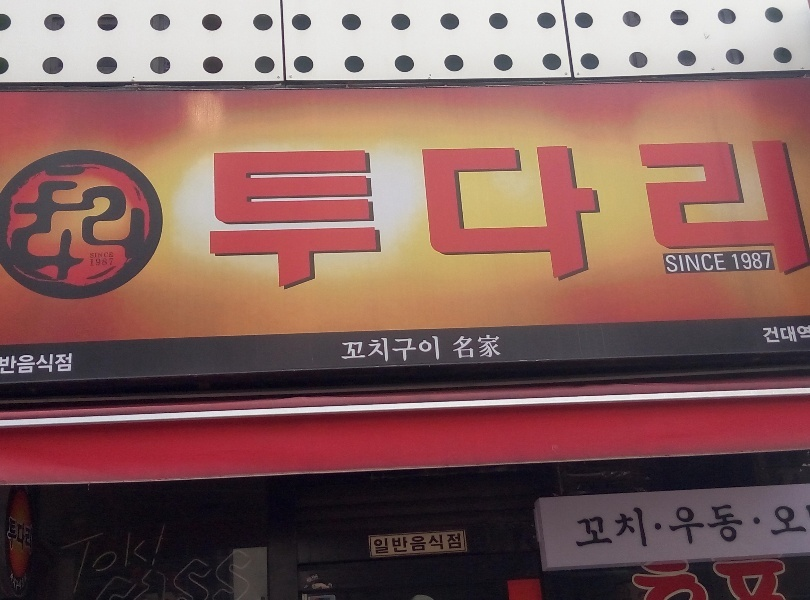text: (209, 142, 224, 305), (225, 142, 240, 305), (241, 142, 256, 305), (257, 142, 272, 305), (273, 142, 288, 305), (289, 142, 304, 305), (305, 142, 320, 305), (321, 142, 336, 305), (337, 142, 352, 305), (353, 142, 368, 305), (369, 142, 384, 305), (385, 142, 400, 305), (401, 142, 416, 305), (417, 142, 432, 305), (433, 142, 448, 305), (449, 142, 464, 305), (465, 142, 480, 305), (481, 142, 496, 305), (497, 142, 512, 305), (513, 142, 528, 305), (529, 142, 544, 305), (545, 142, 560, 305), (561, 142, 576, 305), (577, 142, 592, 305), (593, 142, 608, 305), (609, 142, 624, 305), (625, 142, 640, 305), (641, 142, 656, 305), (657, 142, 672, 305), (673, 142, 688, 305), (689, 142, 704, 305), (705, 142, 720, 305), (721, 142, 736, 305), (737, 142, 752, 305), (753, 142, 768, 305), (769, 142, 784, 305), (785, 142, 800, 305), (33, 157, 48, 287), (49, 157, 64, 287), (65, 157, 80, 287), (81, 157, 96, 287), (97, 157, 112, 287), (113, 157, 128, 287), (129, 157, 144, 287), (801, 142, 810, 305), (145, 157, 155, 287), (65, 520, 80, 596), (81, 520, 96, 596), (97, 520, 112, 596), (113, 520, 128, 596), (129, 520, 144, 596), (145, 520, 160, 596), (24, 157, 32, 287), (129, 548, 144, 600), (145, 548, 160, 600), (161, 548, 176, 600), (177, 548, 192, 600), (193, 548, 208, 600), (209, 548, 224, 600), (225, 548, 240, 600), (114, 548, 128, 600), (577, 506, 592, 552), (593, 506, 608, 552), (609, 506, 624, 552), (625, 506, 640, 552), (673, 504, 688, 550), (689, 504, 704, 550), (705, 504, 720, 550), (721, 504, 736, 550), (241, 548, 254, 600), (641, 559, 656, 600), (657, 559, 672, 600), (673, 559, 688, 600), (689, 559, 704, 600), (705, 559, 720, 600), (721, 559, 736, 600), (737, 559, 752, 600), (753, 559, 768, 600), (769, 559, 784, 600), (161, 520, 169, 596), (17, 514, 32, 551), (57, 520, 64, 596), (769, 504, 784, 538), (785, 504, 800, 538), (641, 506, 652, 552), (353, 337, 368, 365), (369, 337, 384, 365), (385, 337, 400, 365), (401, 337, 416, 365), (417, 337, 432, 365), (737, 504, 746, 550), (630, 559, 640, 600), (465, 335, 480, 360), (481, 335, 496, 360), (6, 514, 16, 551), (385, 534, 400, 558), (401, 534, 416, 558), (417, 534, 432, 558), (433, 534, 448, 558), (449, 534, 463, 558), (1, 354, 16, 376), (17, 354, 32, 376), (33, 354, 48, 376), (49, 354, 64, 376), (451, 335, 464, 360), (341, 337, 352, 365), (372, 534, 384, 558), (769, 325, 784, 344), (785, 325, 800, 344), (17, 571, 28, 596), (673, 255, 688, 273), (689, 255, 704, 273), (705, 255, 720, 273), (737, 252, 752, 270), (753, 252, 768, 270), (433, 337, 441, 365), (801, 504, 807, 538), (668, 504, 672, 550), (801, 325, 810, 344), (65, 354, 72, 376), (305, 574, 319, 585), (10, 571, 16, 596), (97, 258, 113, 267), (497, 335, 502, 360), (762, 325, 768, 344), (666, 255, 672, 273), (721, 255, 727, 273), (769, 252, 774, 270), (785, 559, 787, 600), (97, 253, 112, 258), (733, 252, 736, 270), (90, 258, 96, 267), (575, 506, 576, 552), (33, 514, 34, 551), (91, 253, 96, 258), (113, 253, 114, 258)
